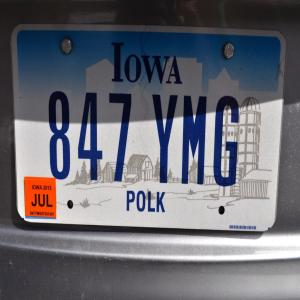Vehicle-registration-plate: (12, 24, 288, 234)
